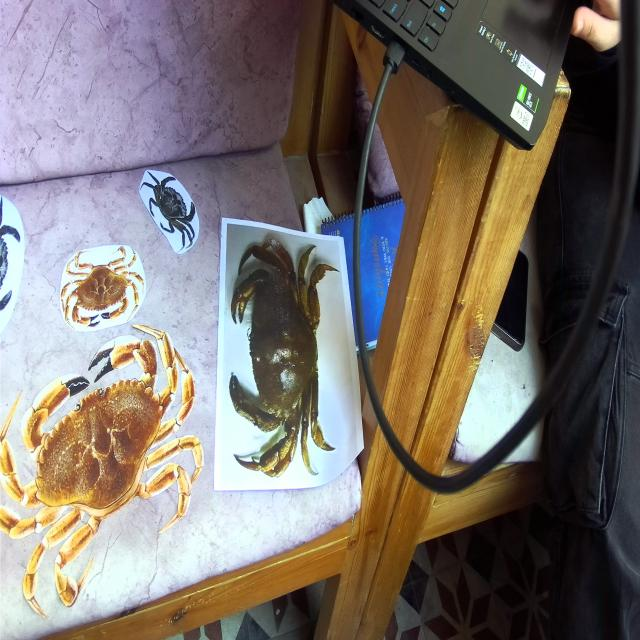European_Green_Crab: (140, 159, 199, 259), (0, 186, 25, 326)
